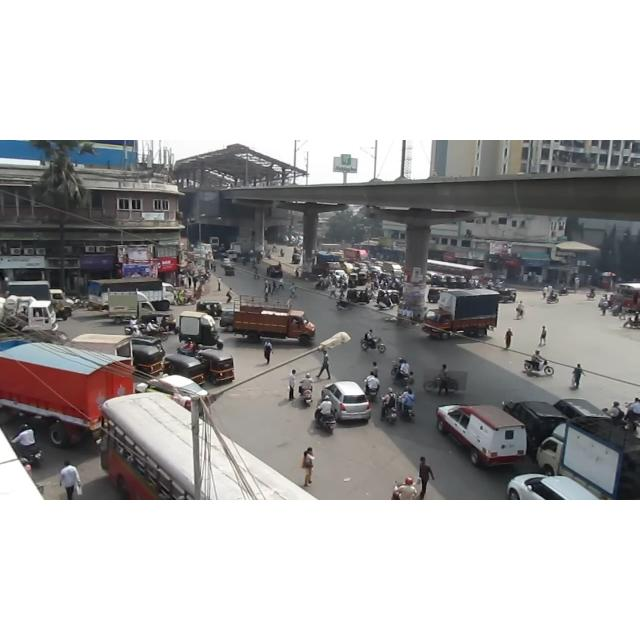auto: (194, 346, 239, 388), (165, 353, 207, 391), (133, 341, 166, 381), (195, 296, 227, 317), (346, 286, 370, 306)
car: (430, 402, 536, 473), (134, 373, 224, 421), (320, 376, 380, 436), (504, 476, 599, 500), (266, 265, 285, 283)
